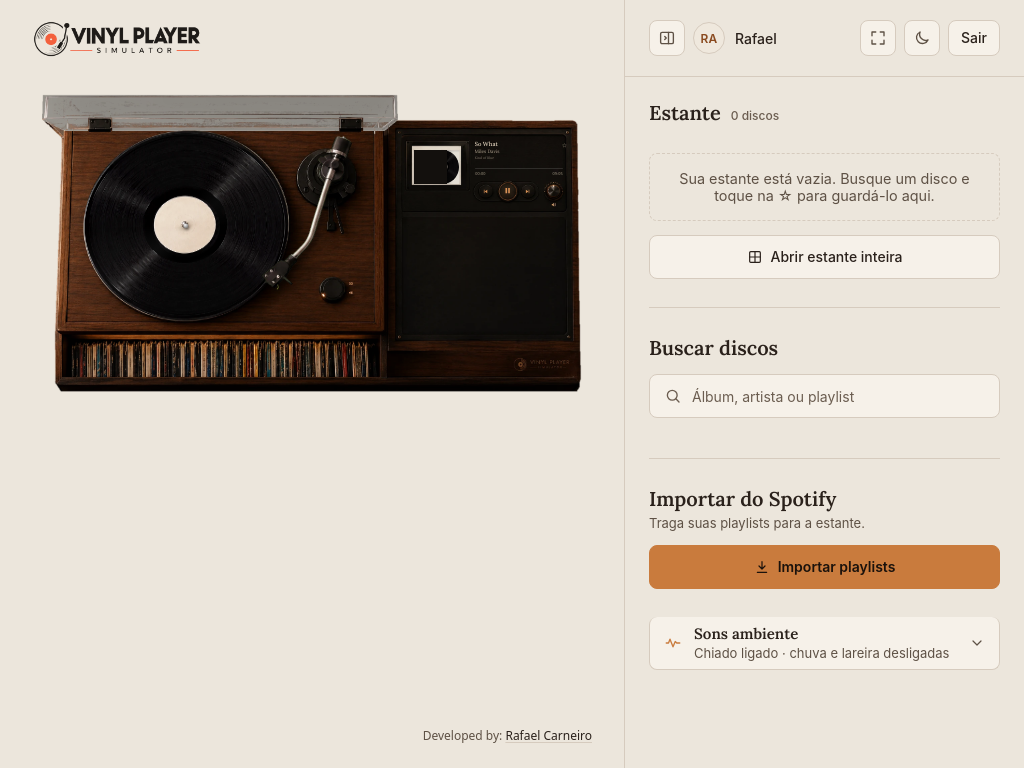
App › T33: ★ ao lado do player guarda e tira da estante o álbum que está tocando
Click the button named "Guardar Kind of Blue na estante" at (564, 145), box 560,141 -> 568,150
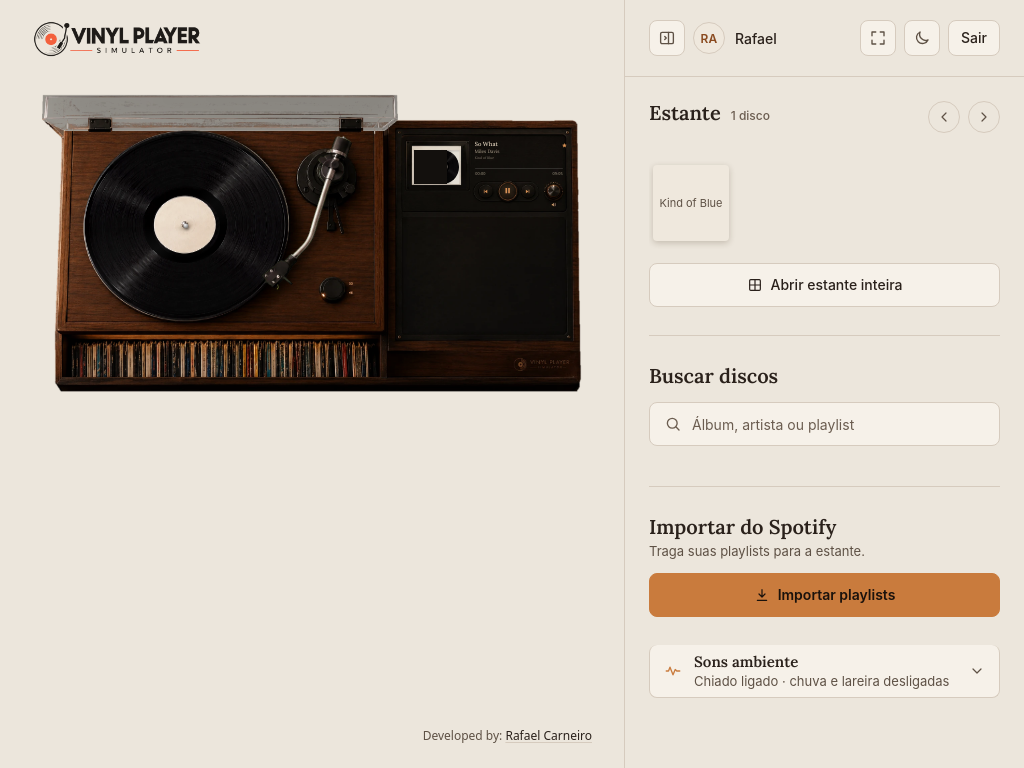
Result: the text "1 disco" is shown at 731,108 -> 770,123
Click the button named "Tirar Kind of Blue da estante" at (564, 145), box 560,141 -> 568,150
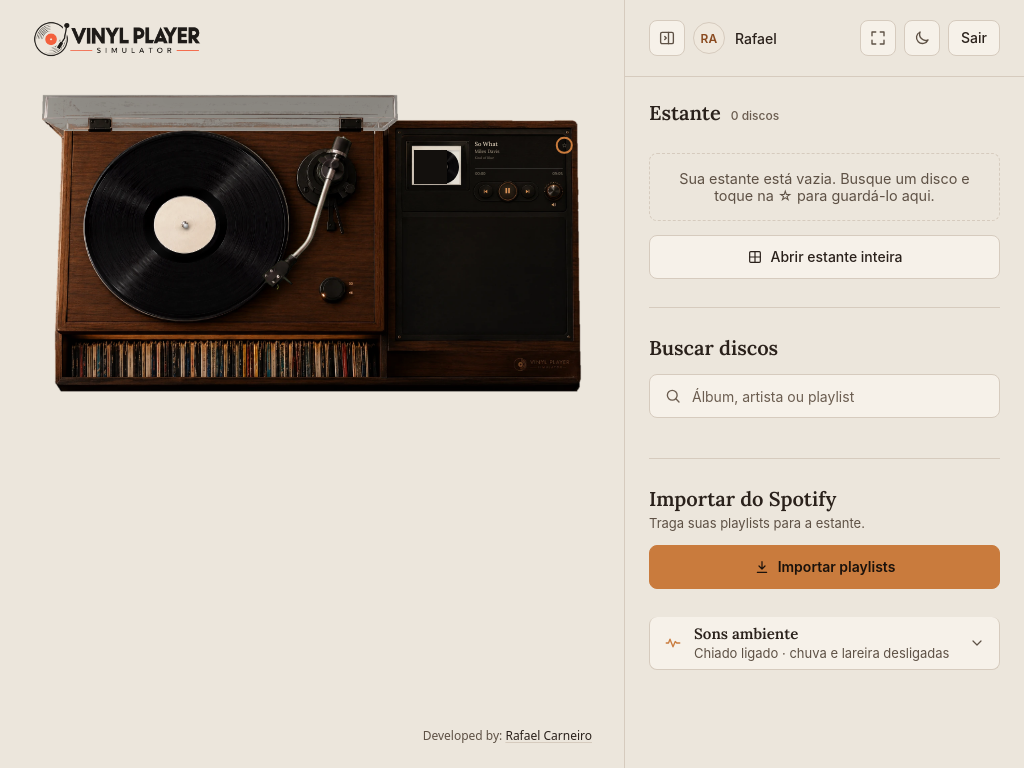
Result: the text "Sua estante está vazia" is shown at 679,170 -> 970,204
